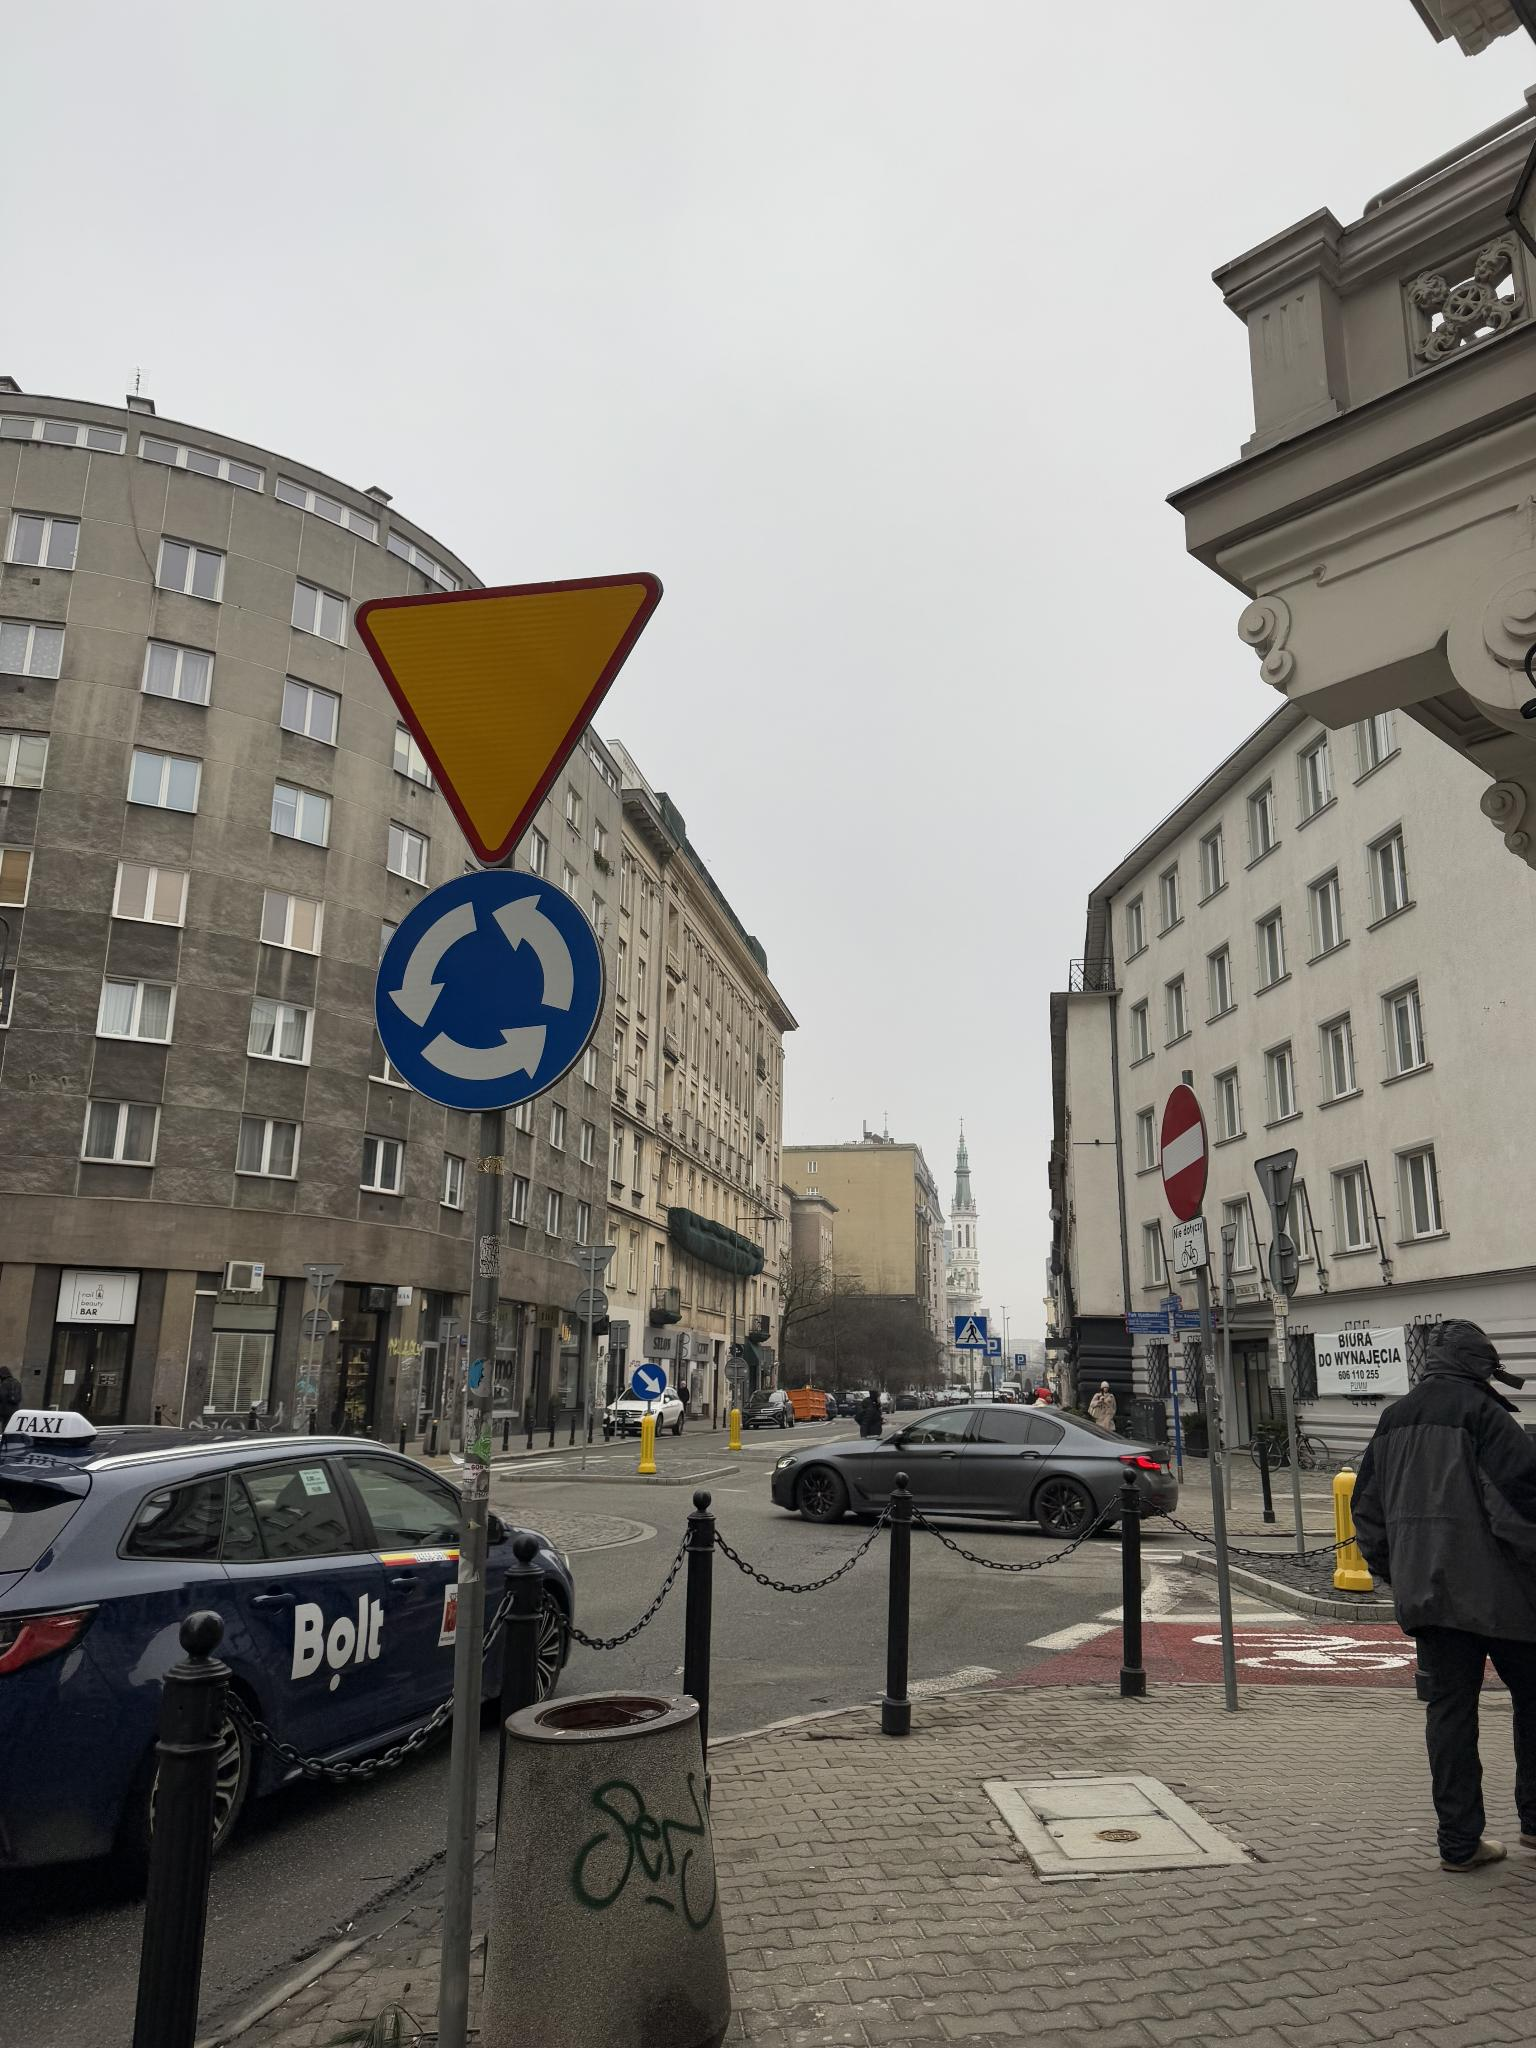information: (955, 1316, 987, 1348), (983, 1337, 1002, 1356), (1015, 1355, 1026, 1366)
mandatory: (373, 868, 610, 1113), (631, 1364, 666, 1400)
other: (1173, 1221, 1208, 1272)
prohibitory: (1160, 1084, 1210, 1222)
warning: (353, 569, 665, 866)
